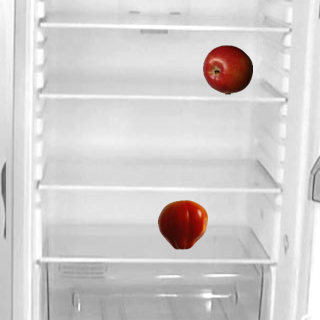Apple Braeburn: (202, 44, 252, 94)
Tomato 1: (157, 199, 207, 249)
